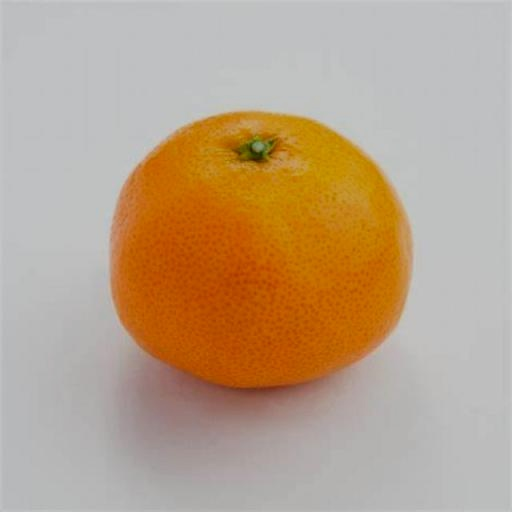fruit: (111, 112, 410, 387)
